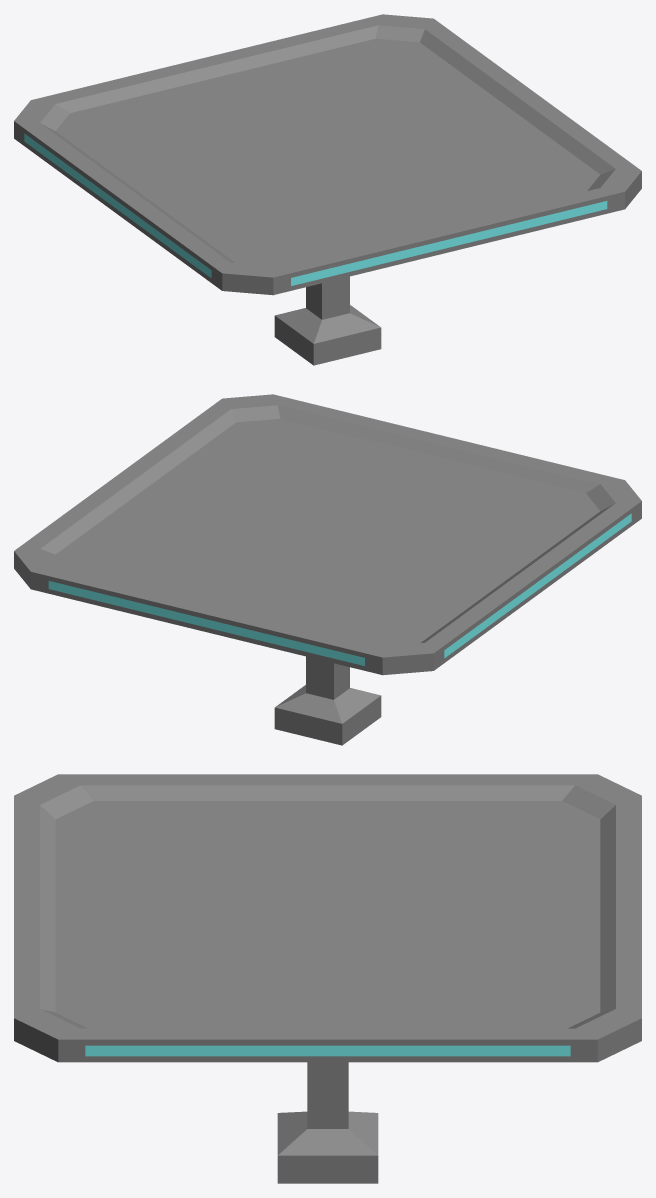
File: OutdoorTable_01.fbx
3 renders of one model, top to bottom at view 1: azimuth 30°, elevation 25°; view 2: azimuth 150°, elevation 25°; view 3: azimuth 270°, elevation 25°, orthographic. The views are drawn at different scales.
Visible parts, largest first — view 1: Table_01; view 2: Table_01; view 3: Table_01.
Part boxes in pixels (box(x1,y1,x2,y2)): Table_01: box(14, 14, 641, 365); Table_01: box(14, 394, 641, 745); Table_01: box(14, 774, 641, 1183).
Size of the model in its own units: 196 by 87.81 by 196.
